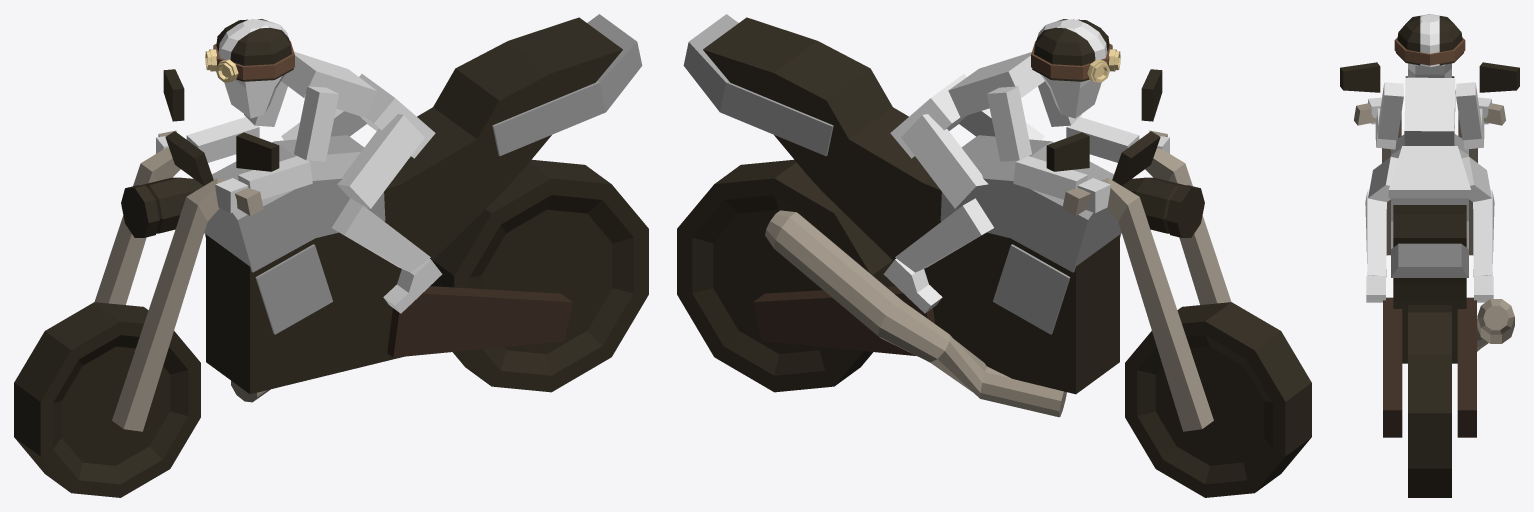
File: FriendsBike-C.fbx
3 renders of one model, left to right at view 1: azimuth 30°, elevation 25°; view 2: azimuth 150°, elevation 25°; view 3: azimuth 270°, elevation 25°, orthographic. The views are drawn at different scales.
Parts seen in each view (by area): view 1: 立方体.021, 円柱.013, 円柱.011, 立方体.019, 立方体.022, 立方体.020, 立方体.025, 太もも, 立方体.026, 前腕, 円柱.012, 後腕 (+11 smaller); view 2: 立方体.021, 円柱.013, 円柱.011, 円柱.014, 立方体.019, 立方体.020, 立方体.022, 立方体.025, 太もも, 立方体.026, 前腕, 円柱.012 (+12 smaller); view 3: 円柱.013, 立方体.021, 立方体.022, 腰, 肋骨, ふくらはぎ, 立方体.025, 後腕, 立方体.023, 太もも, 立方体.019, 円柱.014 (+8 smaller).
Part boxes in pixels (x1,y1,x2,y2): 立方体.021: (206, 17, 622, 394); 円柱.013: (430, 159, 648, 392); 円柱.011: (14, 302, 200, 497); 立方体.019: (94, 130, 263, 431); 立方体.022: (387, 286, 572, 357); 立方体.020: (204, 135, 385, 272); 立方体.025: (492, 14, 642, 155); 太もも: (281, 108, 424, 208); 立方体.026: (255, 244, 332, 334); 前腕: (186, 117, 312, 199); 円柱.012: (121, 177, 203, 237); 後腕: (244, 81, 338, 161); 立方体.021: (703, 17, 1119, 394); 円柱.013: (677, 159, 895, 392); 円柱.011: (1125, 302, 1311, 497); 円柱.014: (765, 210, 1066, 417); 立方体.019: (1062, 130, 1231, 431); 立方体.020: (940, 135, 1121, 272); 立方体.022: (753, 286, 934, 355); 立方体.025: (683, 14, 833, 155); 太もも: (901, 108, 1044, 208); 立方体.026: (993, 244, 1070, 334); 前腕: (1013, 117, 1139, 199); 円柱.012: (1122, 177, 1204, 237); 円柱.013: (1408, 305, 1451, 497); 立方体.021: (1393, 205, 1466, 363); 立方体.022: (1383, 297, 1476, 437); 腰: (1388, 146, 1471, 198); 肋骨: (1404, 77, 1455, 145); ふくらはぎ: (1365, 190, 1494, 277); 立方体.025: (1391, 221, 1468, 277); 後腕: (1378, 82, 1481, 140); 立方体.023: (1340, 62, 1519, 92); 太もも: (1368, 157, 1491, 201); 立方体.019: (1354, 103, 1505, 255); 円柱.014: (1477, 299, 1514, 351).
Size of the model in its own units: 5984 by 4029 by 1838.
